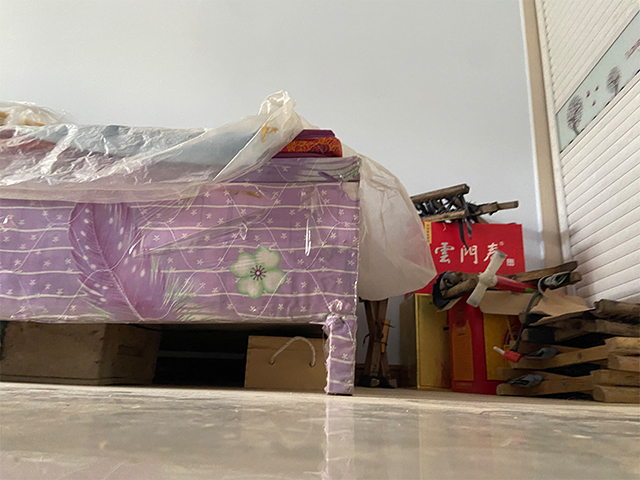bed: (1, 98, 362, 398)
stool: (495, 299, 640, 405)
